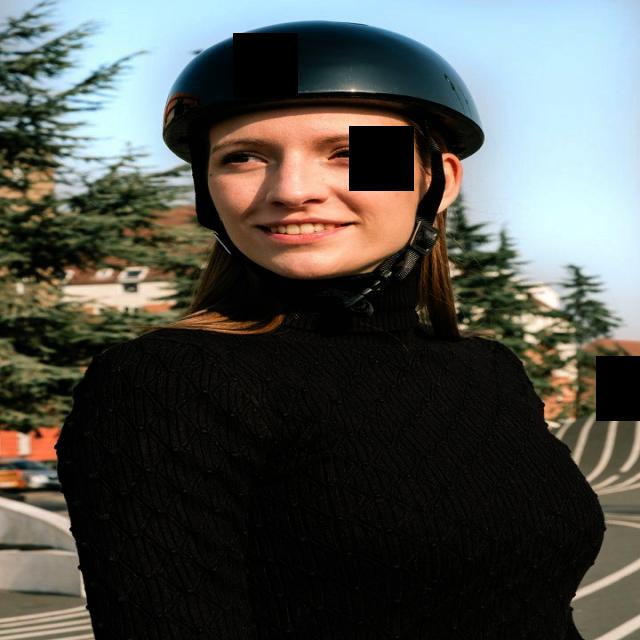Helmet: (158, 16, 490, 280)
